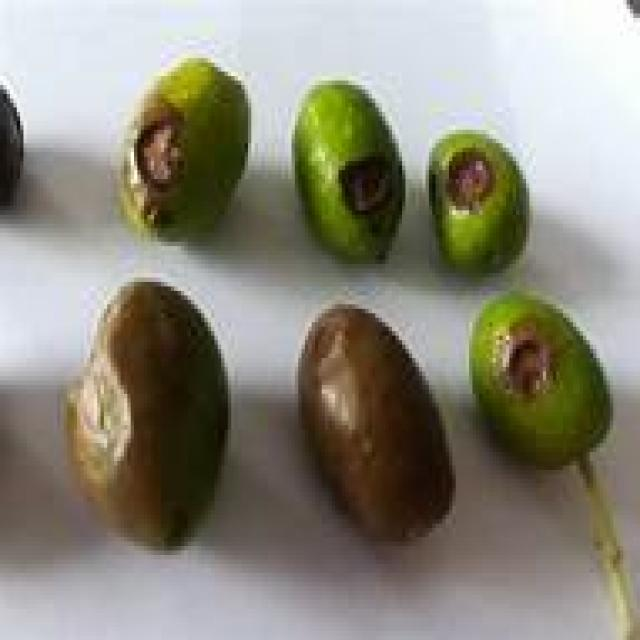Olive Fruit Fly: (468, 291, 612, 467), (121, 54, 252, 247), (292, 81, 402, 260), (429, 130, 526, 273)
